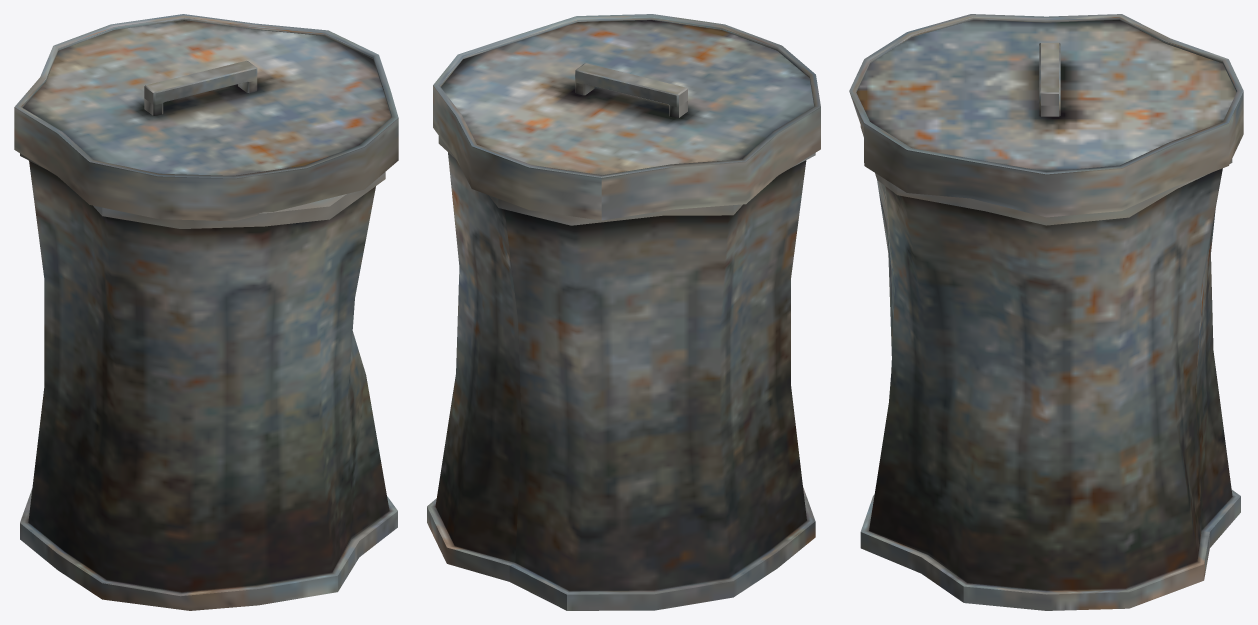
Rendered from PO_Suburbia.Models_Breakables.TrashCanA_SM.fbx.
3 renders of one model, left to right at view 1: azimuth 30°, elevation 25°; view 2: azimuth 150°, elevation 25°; view 3: azimuth 270°, elevation 25°, orthographic.
Visible parts, largest first — view 1: TrashCanA_SM; view 2: TrashCanA_SM; view 3: TrashCanA_SM.
Part boxes in pixels (bbox=[...]): TrashCanA_SM: bbox=[14, 14, 398, 610]; TrashCanA_SM: bbox=[427, 14, 820, 610]; TrashCanA_SM: bbox=[849, 14, 1243, 610].
Size of the model in its own units: 21.7 by 22.56 by 29.
1 material, 1 textured.
